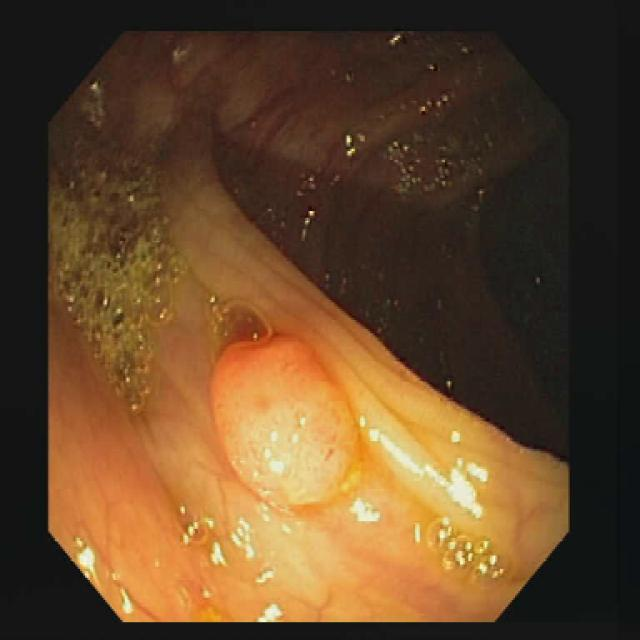tumor: (212, 320, 378, 520)
